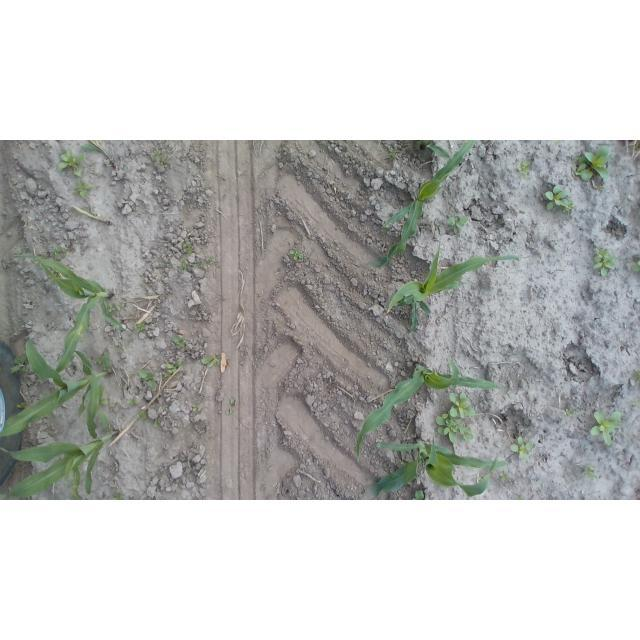Maize: (354, 354, 512, 462), (367, 141, 480, 269), (14, 250, 124, 373), (383, 244, 519, 331), (2, 341, 116, 444), (368, 439, 509, 500), (1, 429, 120, 500)
Weeds: (572, 145, 612, 188), (588, 410, 624, 447), (178, 241, 221, 271), (435, 413, 473, 443), (444, 391, 480, 421), (57, 149, 89, 177), (544, 185, 574, 212), (594, 247, 617, 280), (511, 436, 538, 461), (446, 212, 471, 233), (136, 367, 159, 389), (153, 147, 174, 167), (161, 354, 181, 375), (75, 181, 93, 200), (172, 335, 190, 352), (581, 461, 595, 481), (202, 354, 223, 367), (519, 158, 532, 178), (158, 259, 175, 273), (224, 396, 236, 415), (631, 363, 640, 388), (289, 249, 305, 263), (631, 254, 640, 278), (126, 397, 141, 411), (152, 416, 166, 429), (565, 407, 578, 421), (133, 319, 147, 332), (189, 401, 200, 416), (134, 408, 146, 421), (632, 398, 640, 415), (108, 302, 117, 315)
